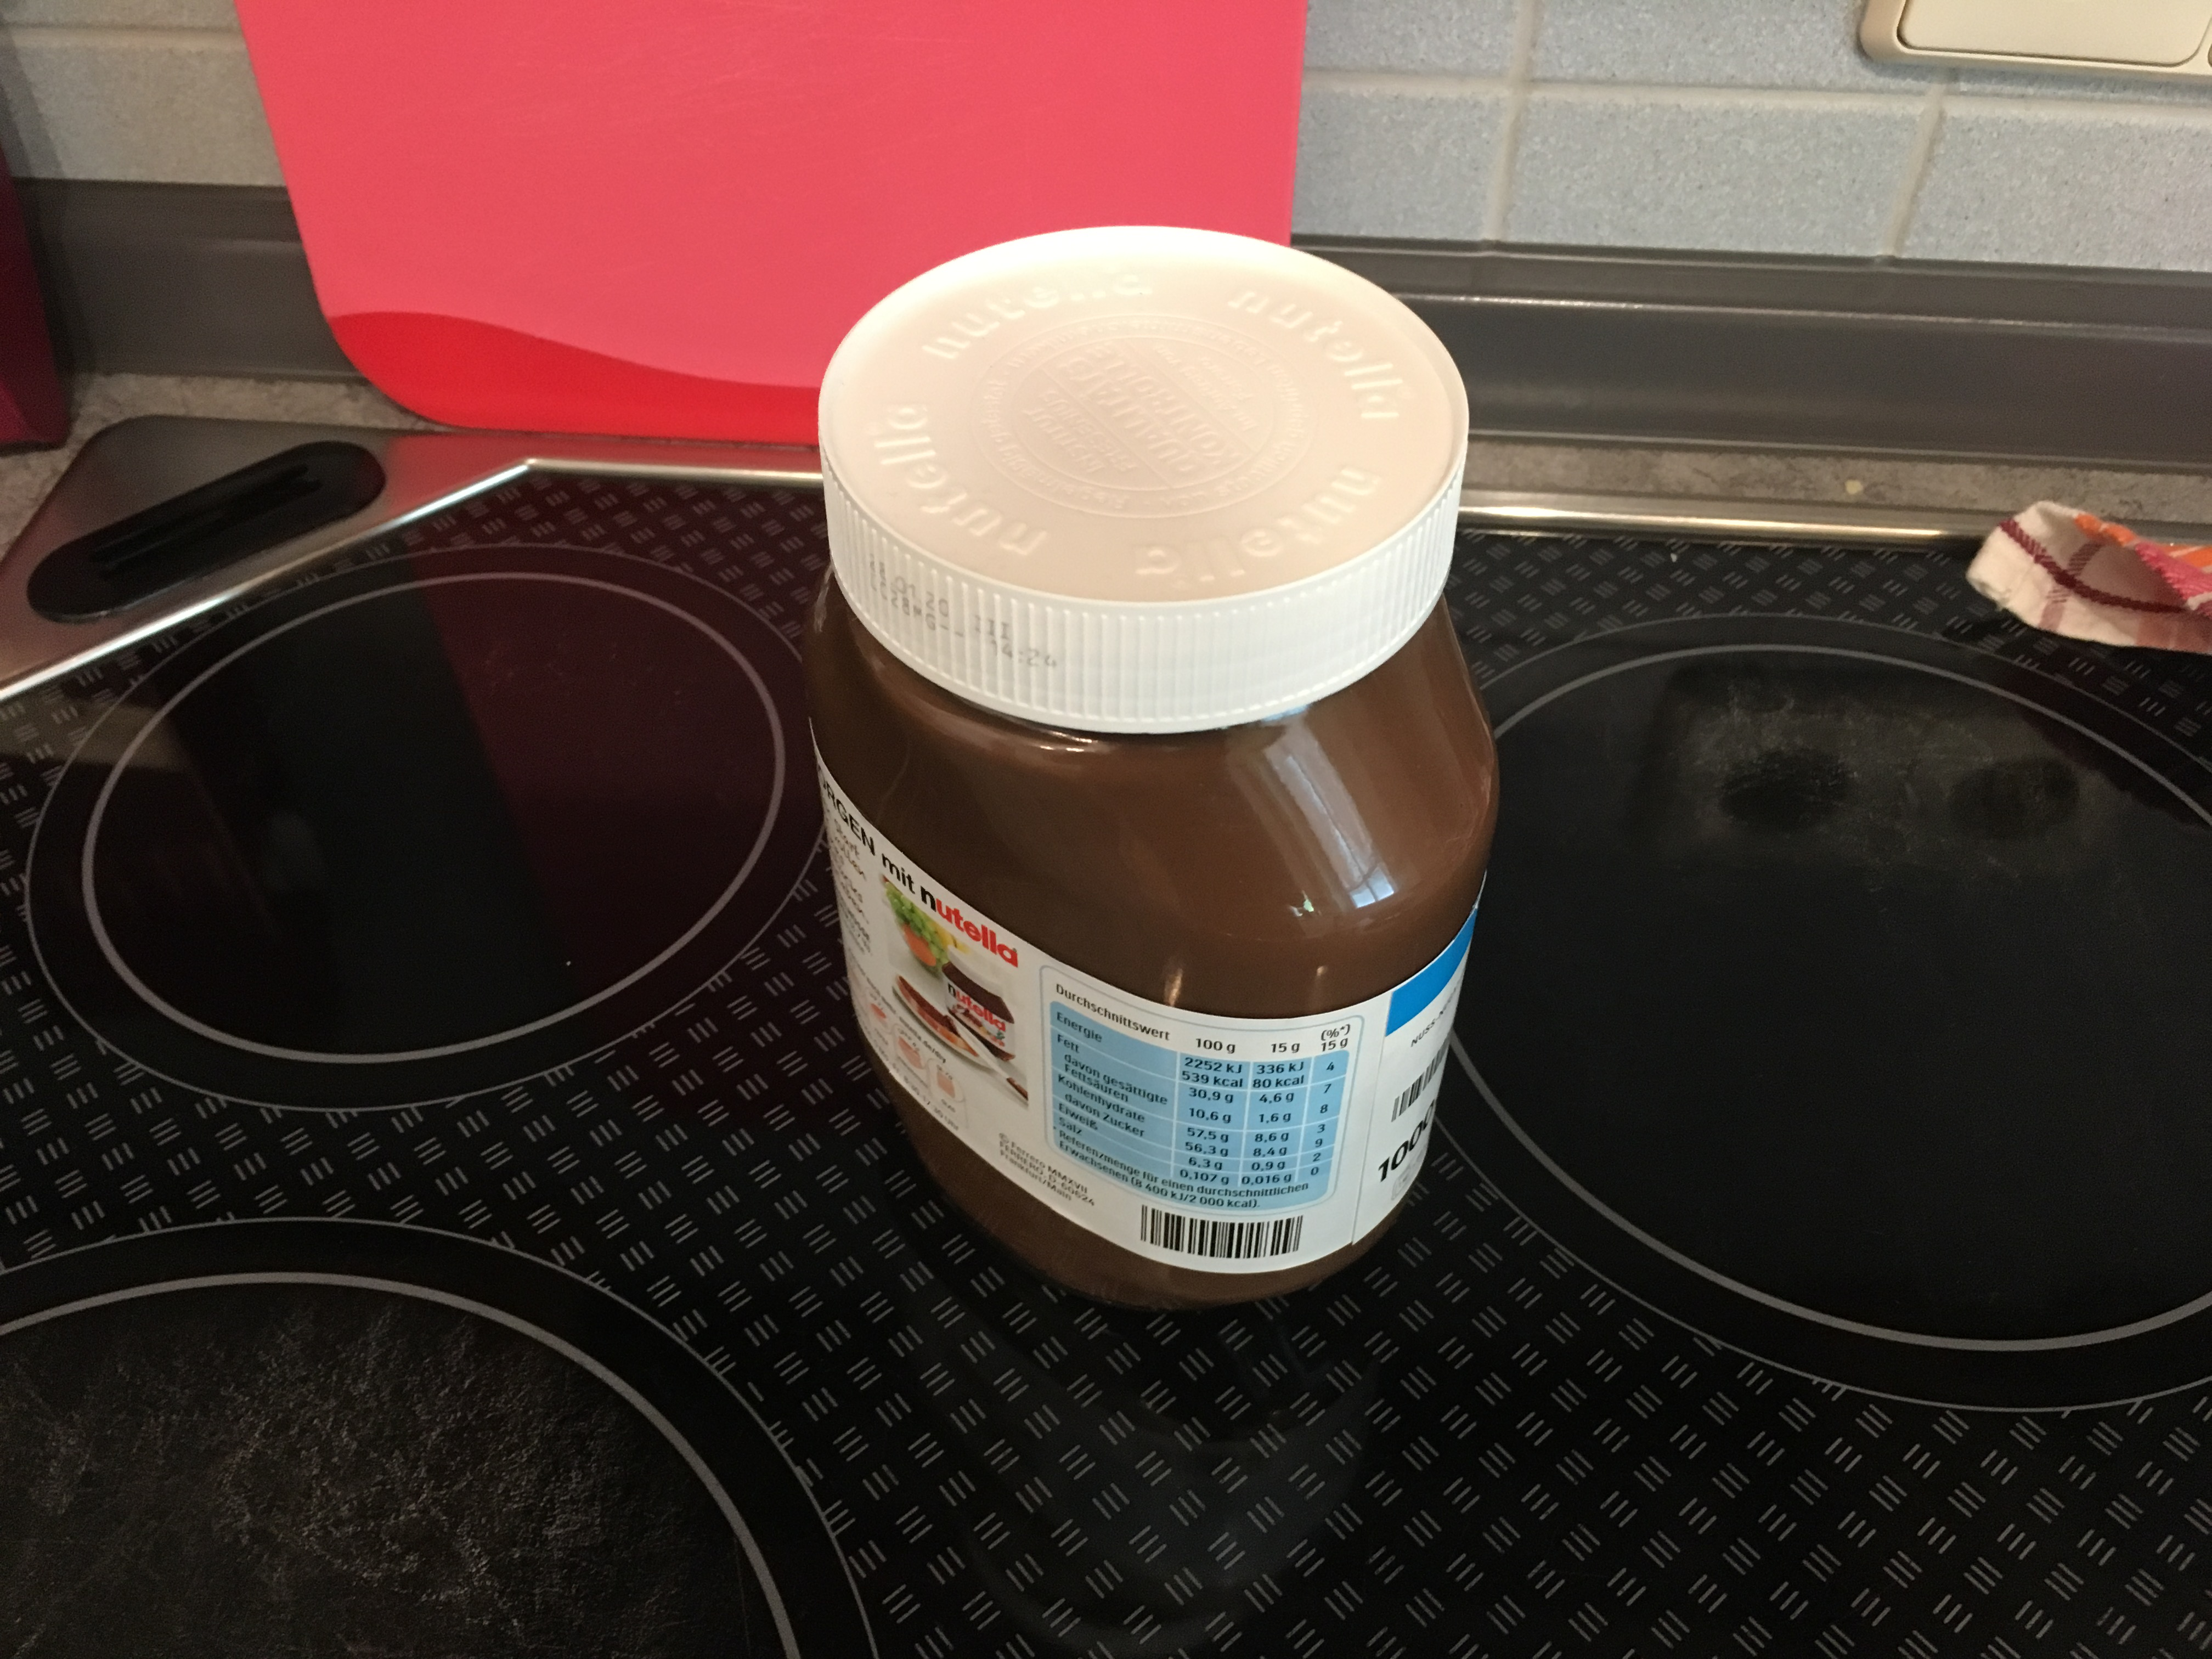nutella: (803, 223, 1500, 1316)
